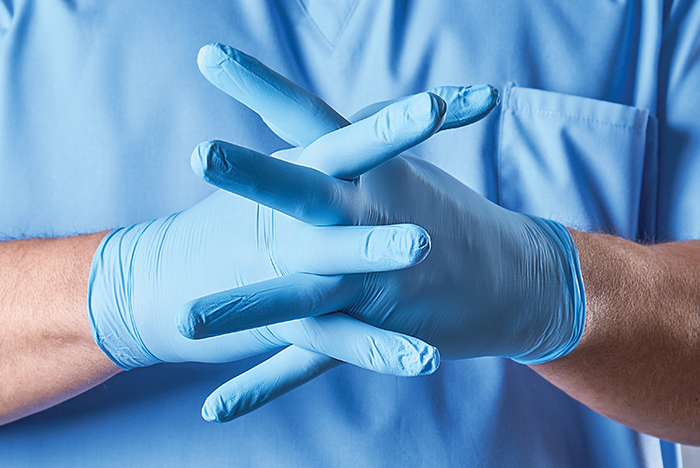glove: (169, 39, 588, 426), (80, 79, 500, 384)
